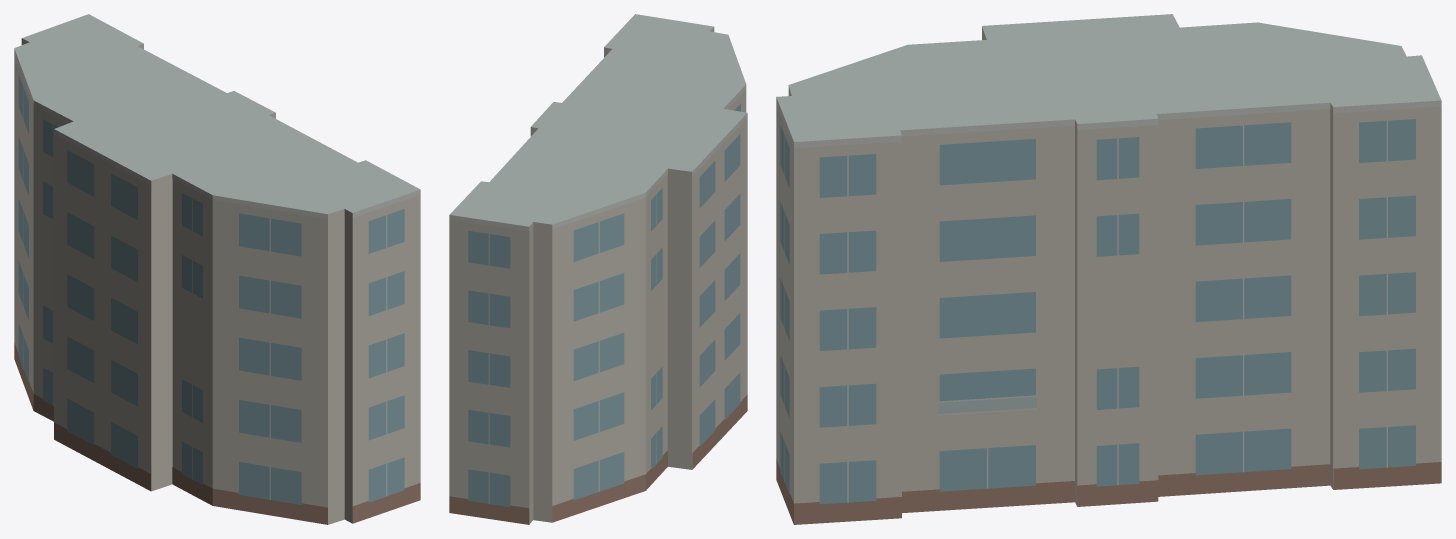
File: survey-upis-32798762.glb
The picture shows the model from 3 angles, left to right: view 1: azimuth 30°, elevation 25°; view 2: azimuth 150°, elevation 25°; view 3: azimuth 270°, elevation 25°; orthographic projection. The views are drawn at different scales.
Visible parts, largest first — view 1: survey-upis-32798762.tmp; view 2: survey-upis-32798762.tmp; view 3: survey-upis-32798762.tmp.
Boxes of the visible parts, x1,y1,x2,y2 form: survey-upis-32798762.tmp: (14,14,420,524); survey-upis-32798762.tmp: (449,14,747,524); survey-upis-32798762.tmp: (776,14,1441,524).
Size of the model in its own units: 10.95 by 15.25 by 24.03.
